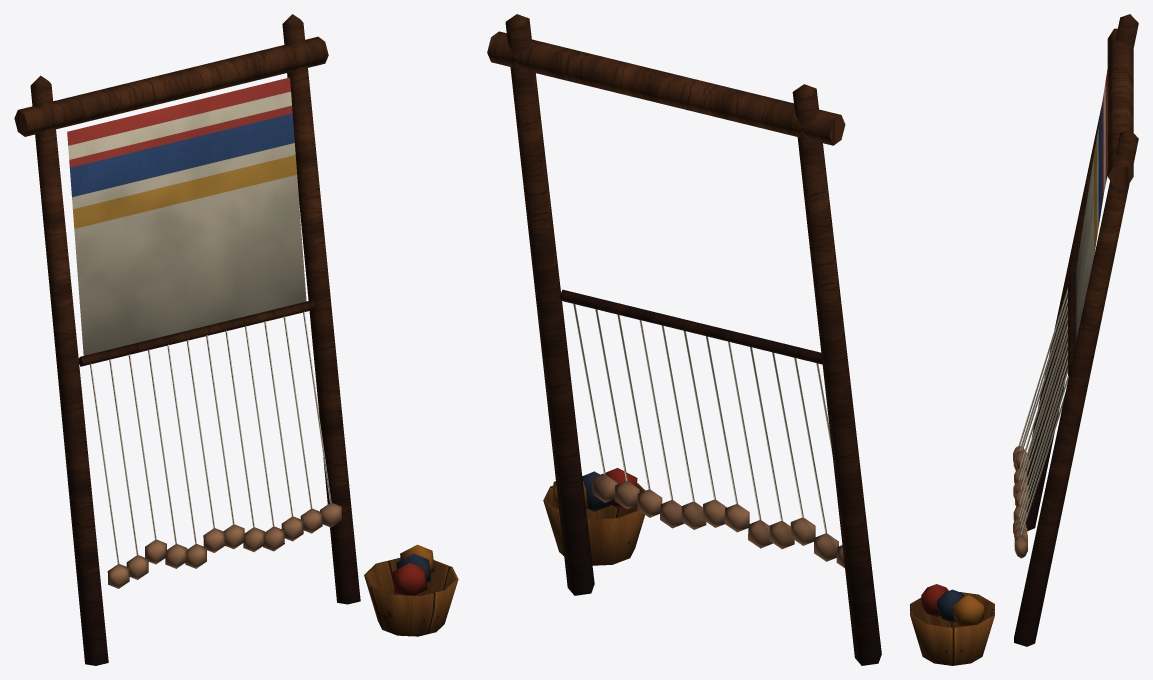
The model's file is interior_loom.glb.
3 renders of one model, left to right at view 1: azimuth 30°, elevation 25°; view 2: azimuth 150°, elevation 25°; view 3: azimuth 270°, elevation 25°, orthographic. The views are drawn at different scales.
Visible parts, largest first — view 1: interior_loom; view 2: interior_loom; view 3: interior_loom.
Boxes of the visible parts, x1,y1,x2,y2 form: interior_loom: (14,14,458,665); interior_loom: (487,14,881,665); interior_loom: (910,14,1138,665).
Bounding box in the file's own units: 1.41 × 2.16 × 0.871.
Materials: 4 (3 with a texture image).
